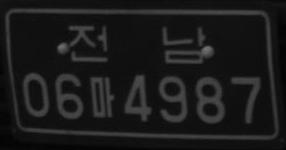0: (21, 71, 50, 117)
4: (123, 74, 152, 120)
6: (54, 72, 83, 119)
7: (230, 75, 261, 124)
8: (194, 76, 226, 123)
9: (157, 74, 188, 123)
마: (88, 76, 114, 118)
전남_D: (68, 24, 206, 63)
